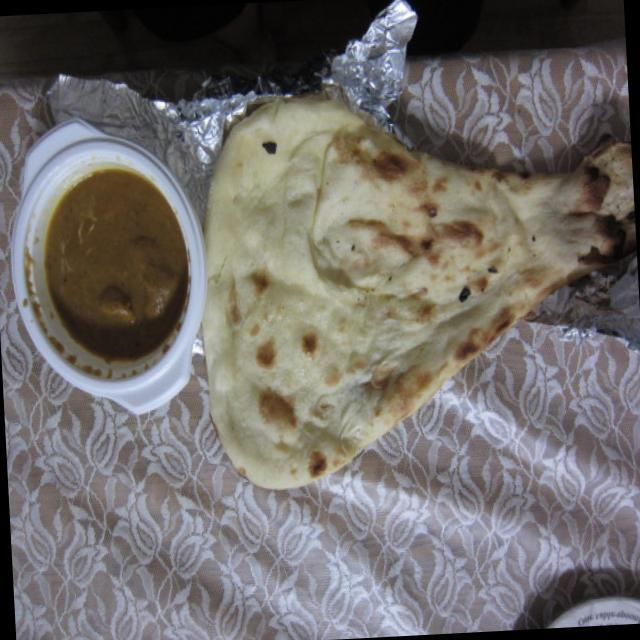Beef Curry: (36, 162, 186, 368)
